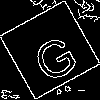G: (24, 25, 81, 86)
